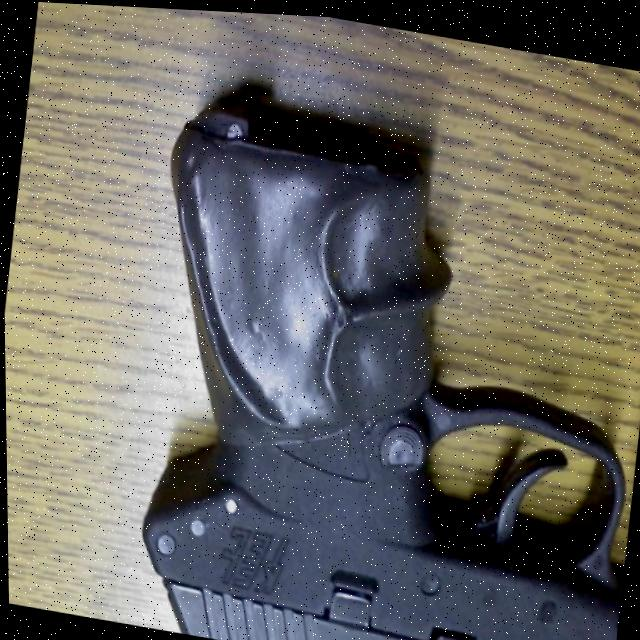pistol: (108, 66, 640, 640)
